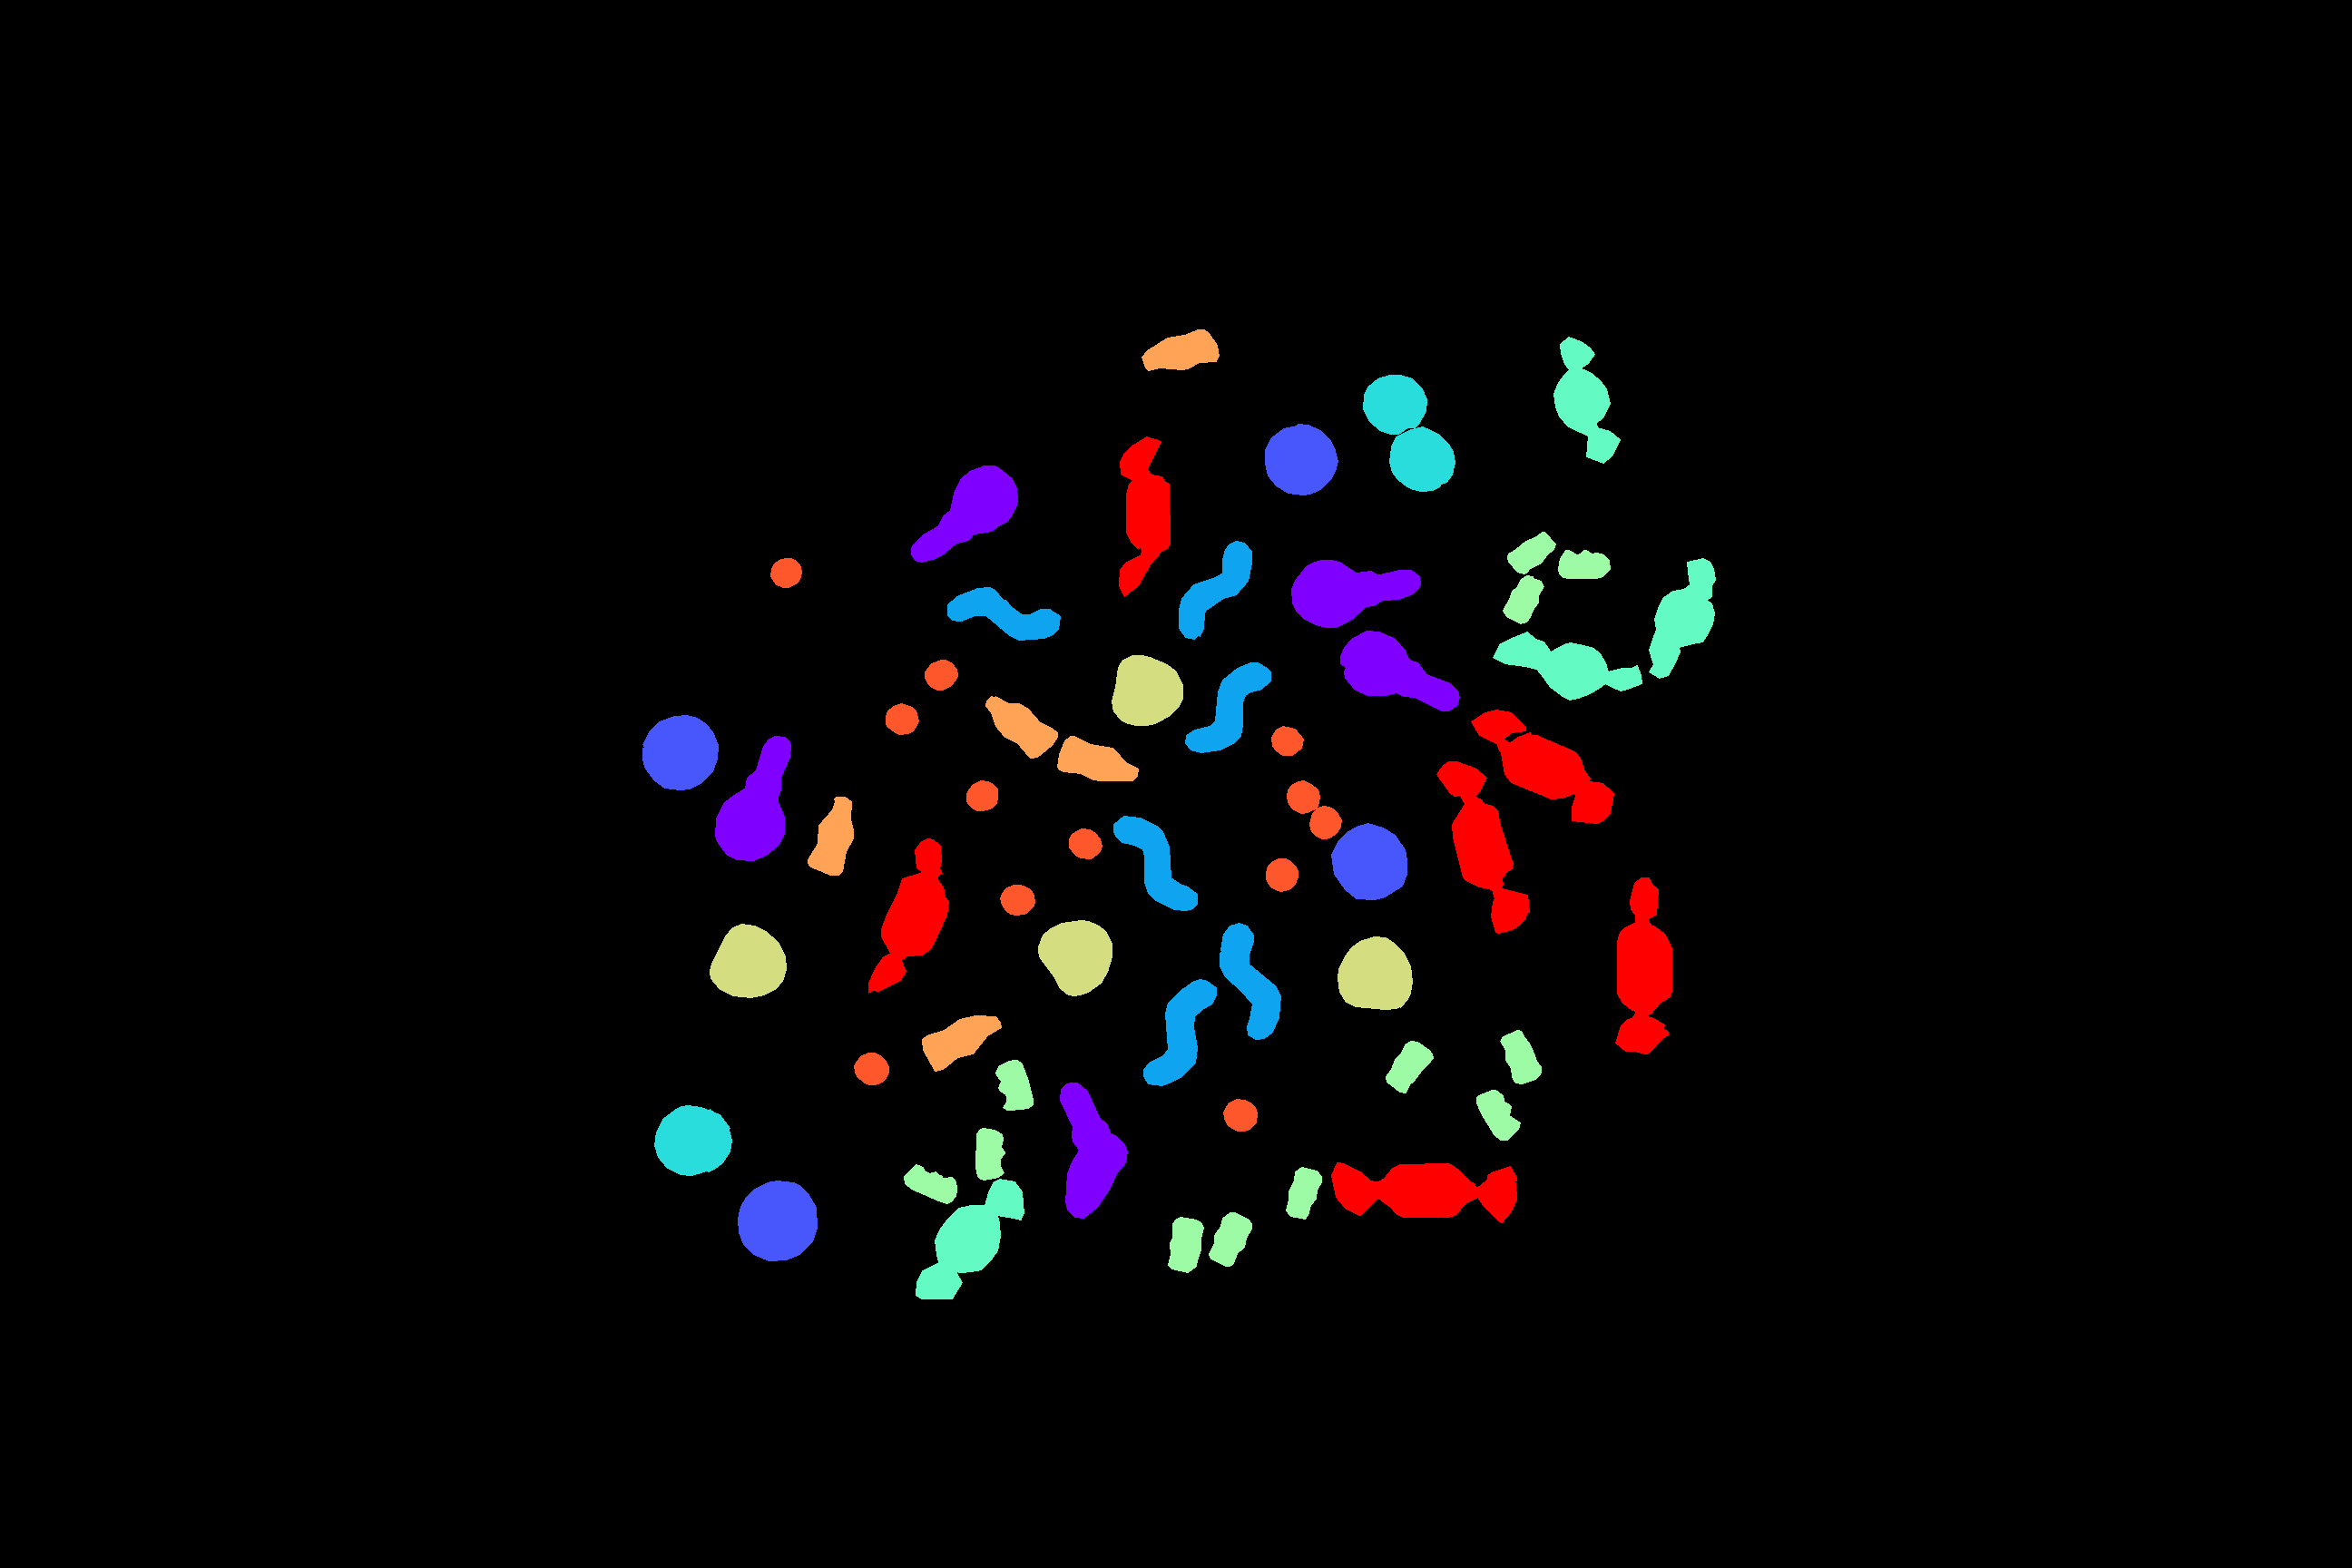apricot_jellies: (709, 924, 786, 997), (1038, 920, 1111, 996), (1337, 936, 1412, 1010), (1111, 655, 1183, 724)
bear: (1386, 1041, 1433, 1092), (1209, 1213, 1251, 1265), (903, 1164, 957, 1204), (1477, 1090, 1521, 1139), (1500, 1031, 1540, 1083), (1167, 1216, 1204, 1272), (1507, 532, 1556, 574), (1503, 576, 1543, 623), (996, 1060, 1032, 1109), (1286, 1167, 1321, 1218), (975, 1129, 1004, 1179), (1558, 549, 1610, 577)
coin_candy: (738, 1181, 817, 1260), (1332, 826, 1407, 900), (642, 716, 718, 789), (1265, 423, 1337, 495)
cola bottle candies: (922, 1015, 1001, 1071), (985, 696, 1057, 758), (807, 796, 852, 875), (1057, 737, 1138, 780), (1141, 329, 1218, 371)
dummies: (912, 465, 1017, 562), (1340, 630, 1460, 710), (716, 737, 791, 861), (1060, 1083, 1127, 1218), (1291, 560, 1419, 626)
riesen: (1472, 709, 1613, 822), (1437, 761, 1530, 933), (868, 838, 948, 992), (1332, 1162, 1515, 1221), (1615, 877, 1671, 1053), (1118, 436, 1169, 597)
skittles: (854, 1052, 889, 1085), (1286, 780, 1319, 814), (1223, 1099, 1256, 1130), (1309, 805, 1340, 838), (999, 886, 1034, 915), (1069, 828, 1101, 859), (1265, 859, 1297, 891), (924, 660, 957, 689), (886, 704, 919, 733), (966, 780, 997, 810), (1270, 726, 1304, 754), (770, 558, 802, 586)
sourworms: (1113, 816, 1197, 910), (1143, 978, 1216, 1085), (1185, 663, 1270, 753), (1220, 922, 1281, 1040), (1179, 541, 1251, 639), (947, 586, 1060, 640)
tofifee: (655, 1106, 731, 1174), (1389, 427, 1454, 492), (1363, 374, 1426, 434)
vollmilch_brocken: (915, 1179, 1024, 1298), (1493, 632, 1641, 700), (1554, 336, 1620, 462), (1649, 558, 1715, 677)
